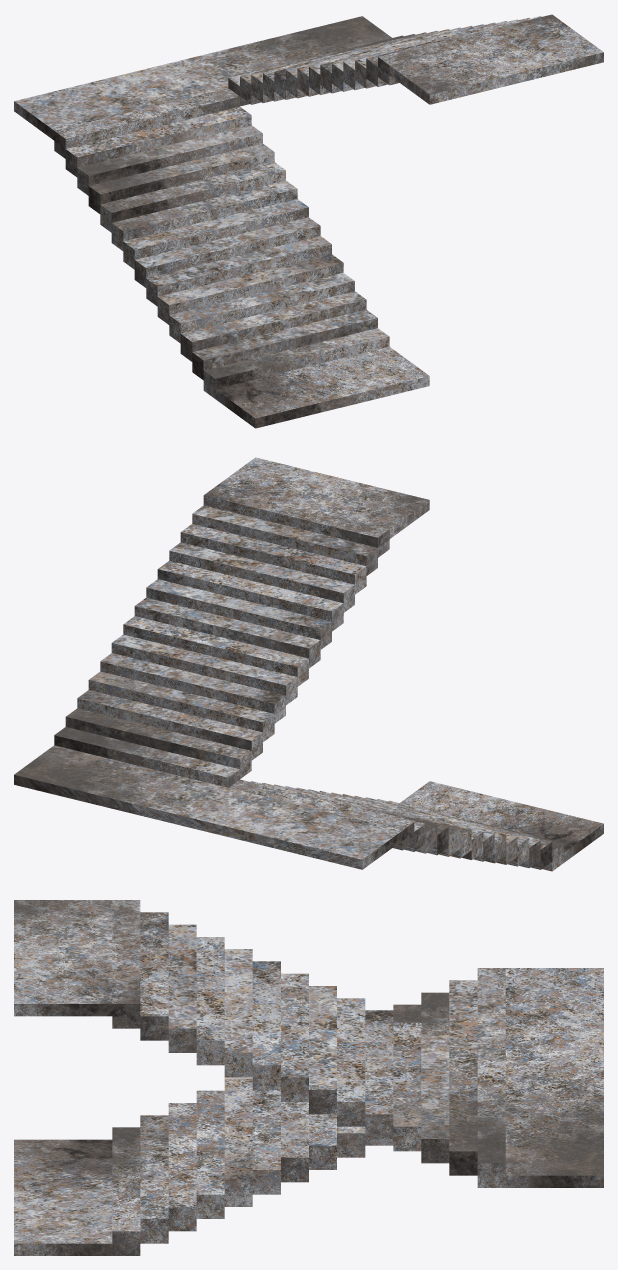
The picture shows the model from 3 angles, top to bottom: view 1: azimuth 30°, elevation 25°; view 2: azimuth 150°, elevation 25°; view 3: azimuth 270°, elevation 25°; orthographic projection. The views are drawn at different scales.
Parts seen in each view (by area): view 1: 계단1; view 2: 계단1; view 3: 계단1.
Part boxes in pixels (x1=…): 계단1: x1=14, y1=14, x2=603, y2=428; 계단1: x1=14, y1=457, x2=603, y2=871; 계단1: x1=14, y1=900, x2=603, y2=1255.
Size of the model in its own units: 500 by 399 by 600.
